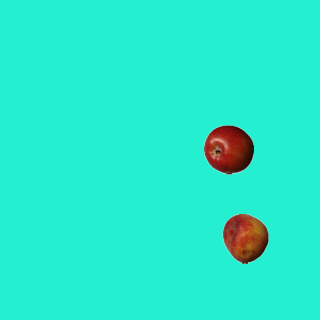Apple Braeburn: (203, 124, 253, 174)
Peach: (220, 213, 270, 263)
